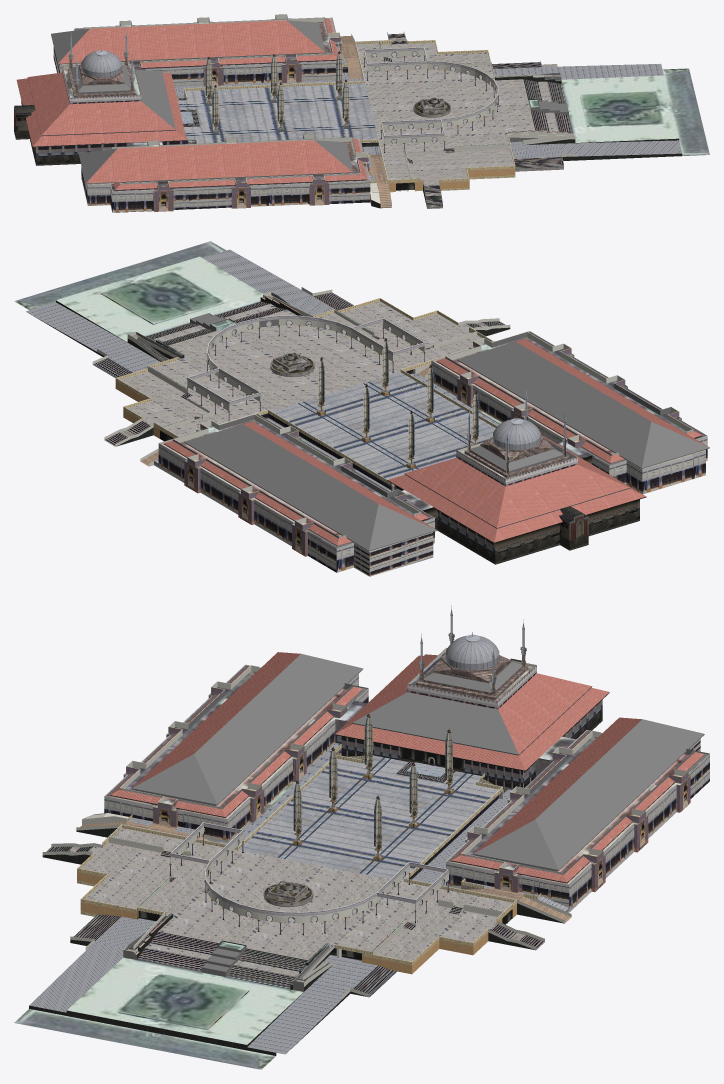
Rendered from masjid-agung.gltf.
3 views of the same model, one above another, from view 1: azimuth 30°, elevation 25°; view 2: azimuth 150°, elevation 25°; view 3: azimuth 270°, elevation 25° (orthographic). The views are drawn at different scales.
Parts seen in each view (by area): view 1: root; view 2: root; view 3: root.
Boxes of the visible parts, bbox=[...] form: root: bbox=[14, 14, 709, 212]; root: bbox=[14, 241, 709, 576]; root: bbox=[14, 632, 709, 1069].
Bounding box in the file's own units: 253 × 36.21 × 194.
Materials: 41 (40 with a texture image).
